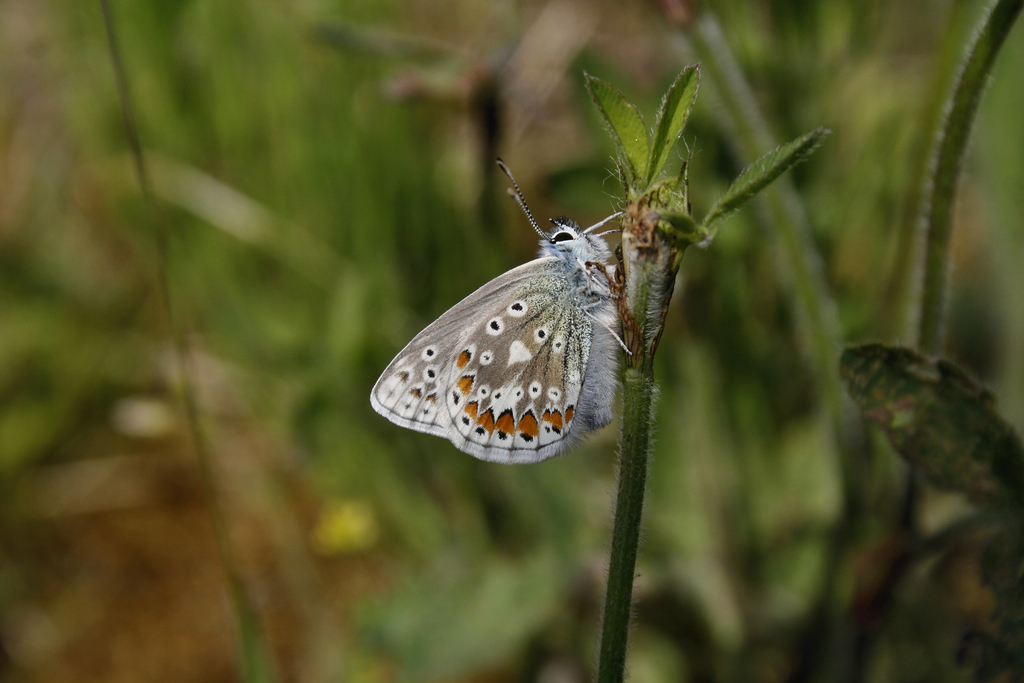Butterfly: (365, 208, 644, 464)
